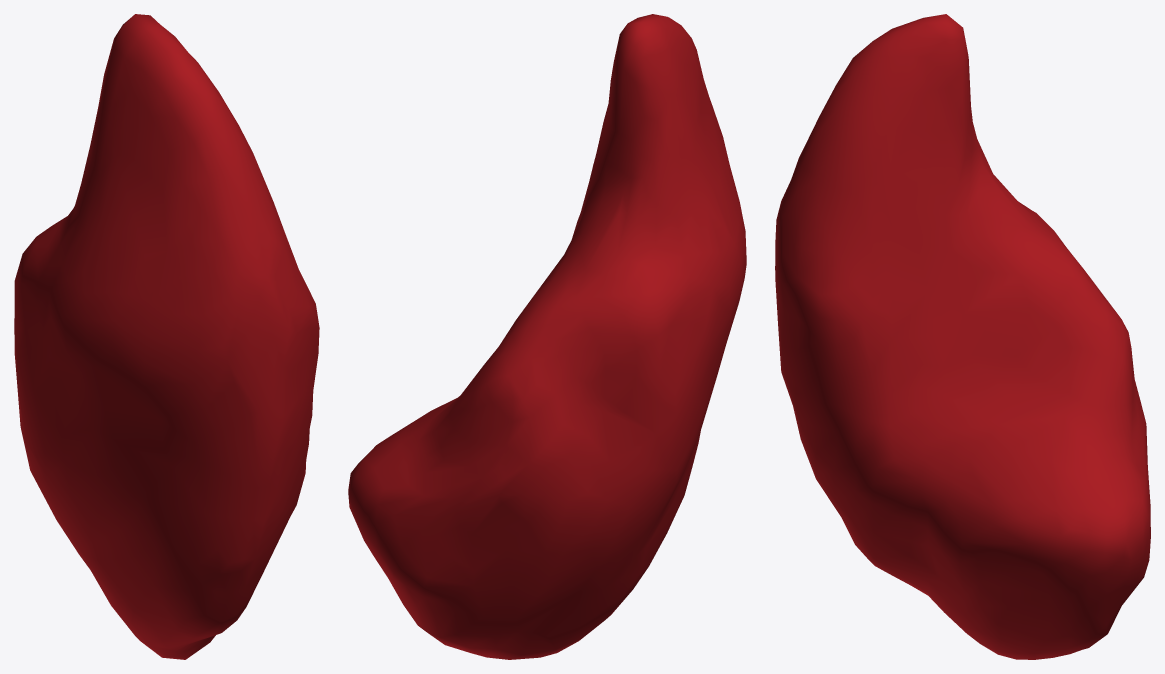
The model's file is right_putamen.obj.
3 views of the same model, side by side, from view 1: azimuth 30°, elevation 25°; view 2: azimuth 150°, elevation 25°; view 3: azimuth 270°, elevation 25° (orthographic). The views are drawn at different scales.
Visible parts, largest first — view 1: right_putamen_right_putamen; view 2: right_putamen_right_putamen; view 3: right_putamen_right_putamen.
Boxes of the visible parts, x1,y1,x2,y2 form: right_putamen_right_putamen: (14,14,319,659); right_putamen_right_putamen: (348,14,746,659); right_putamen_right_putamen: (775,14,1150,659).
Bounding box in the file's own units: 1.8 × 3.73 × 2.1.
